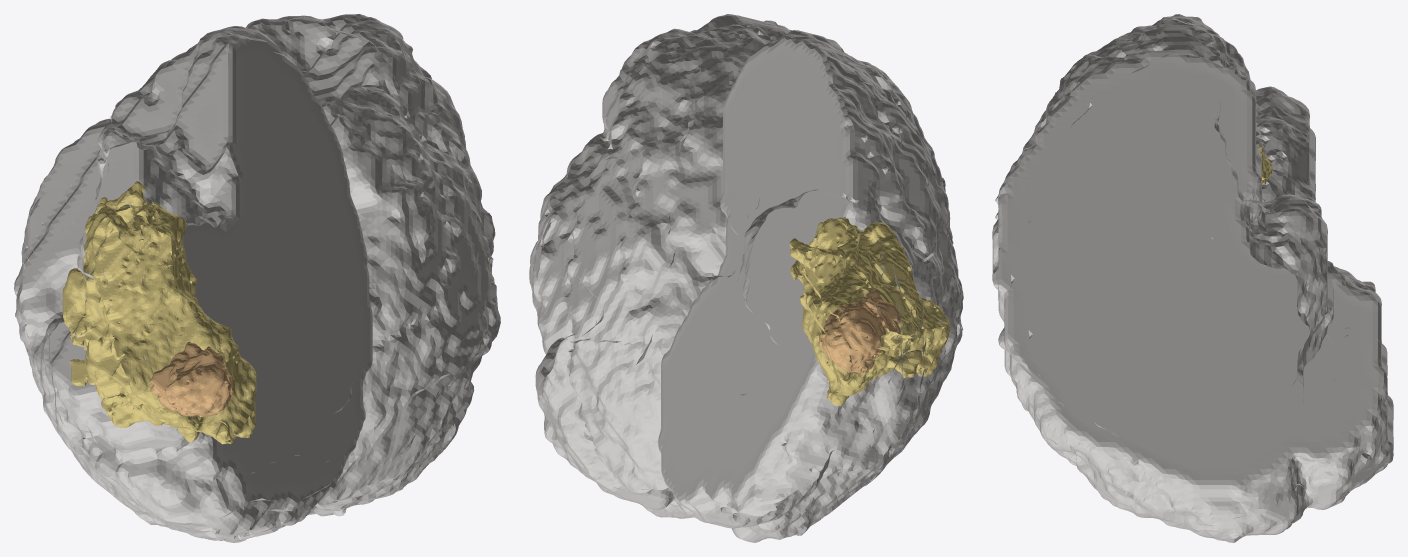
3 views of the same model, side by side, from view 1: azimuth 30°, elevation 25°; view 2: azimuth 150°, elevation 25°; view 3: azimuth 270°, elevation 25° (orthographic). The views are drawn at different scales.
Parts seen in each view (by area): view 1: brain_left, brain_right, edema, core; view 2: brain_left, brain_right, edema, core; view 3: brain_right, brain_left.
Boxes of the visible parts, x1,y1,x2,y2 form: brain_left: [14, 26, 372, 542]; brain_right: [246, 14, 500, 516]; edema: [62, 181, 256, 444]; core: [148, 342, 233, 416]; brain_left: [658, 30, 963, 542]; brain_right: [529, 14, 791, 518]; edema: [789, 217, 950, 405]; core: [819, 289, 901, 373]; brain_right: [992, 51, 1393, 542]; brain_left: [992, 14, 1381, 308].
Bounding box in the file's own units: 144 × 176 × 134.
